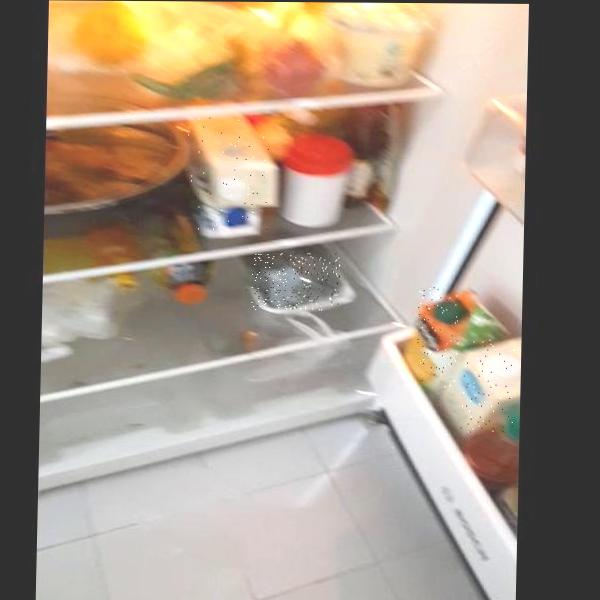broccoli: (251, 253, 340, 311)
juice: (416, 285, 461, 387)
milk: (184, 117, 270, 232), (461, 339, 514, 433)
